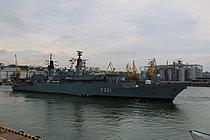MIL_Ship: (10, 53, 189, 104)
